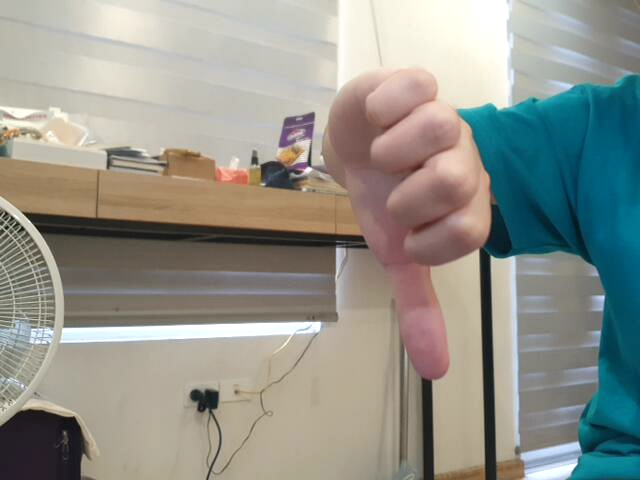ThumbsDown: (321, 63, 499, 389)
